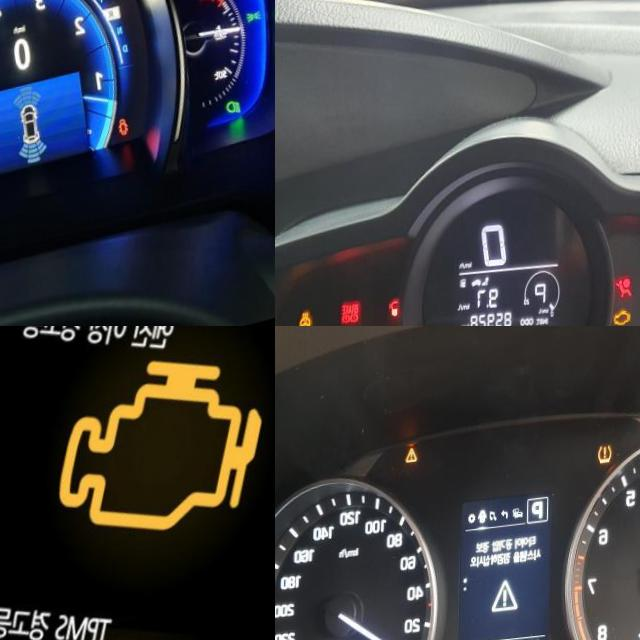Central Warning lamp: (407, 451, 420, 468)
Doors: (120, 125, 132, 144)
Low beam: (227, 108, 244, 128)
SideLamp: (247, 20, 264, 36)
